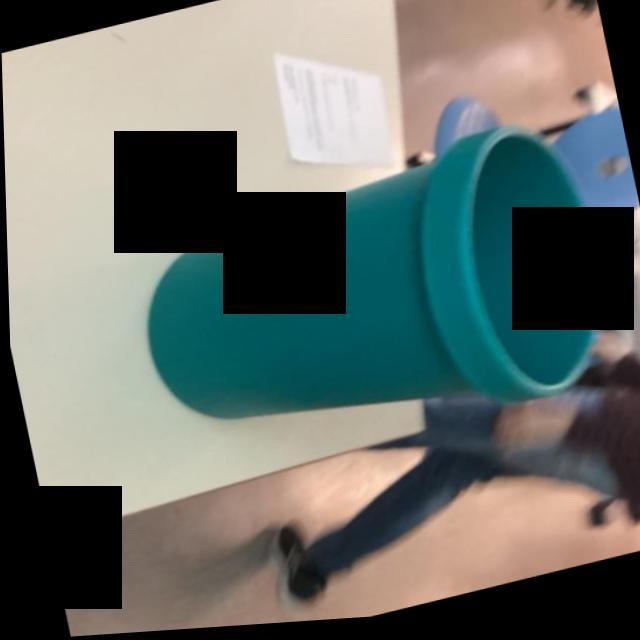bin: (62, 48, 640, 543)
